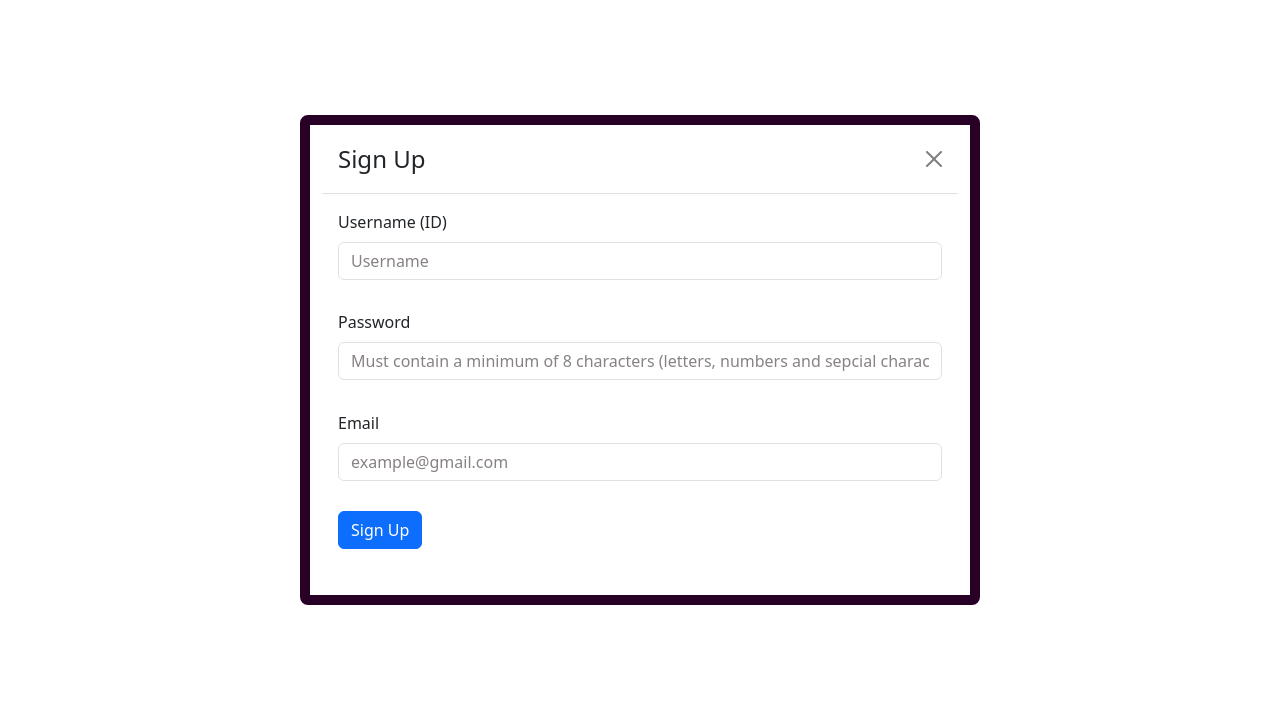
Scenario: Detects Invalid Password in Password Input via Regex
Type "badpassword" into the password field labelled "Password". click: (640, 361)
box: [338, 342, 942, 380]
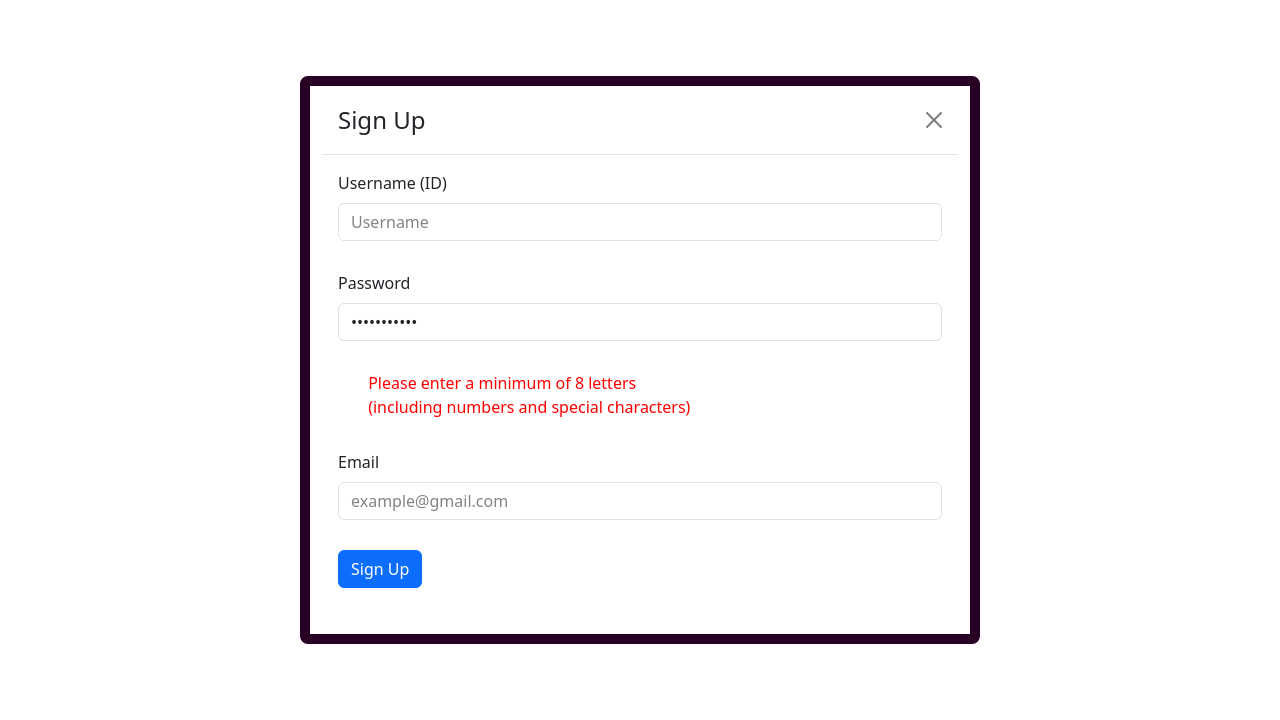
Expected: the text "Please enter a minimum of 8 letters (including numbers and special characters)" is shown, [368, 372, 690, 418]
